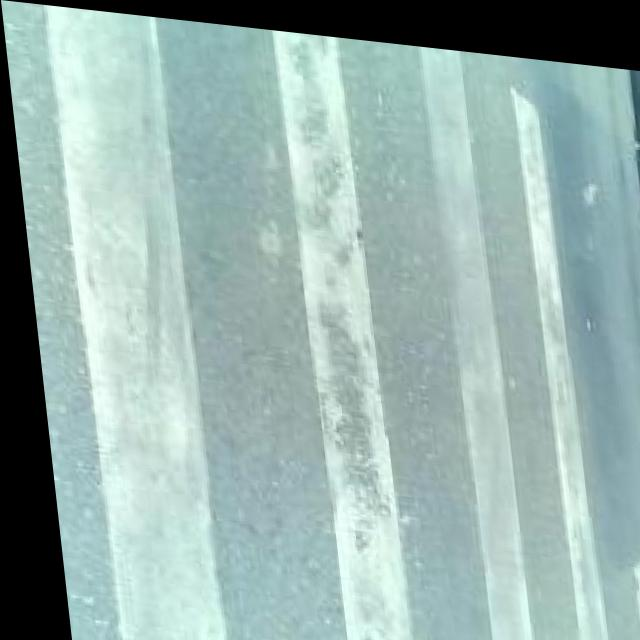zebra: (4, 50, 607, 640)
